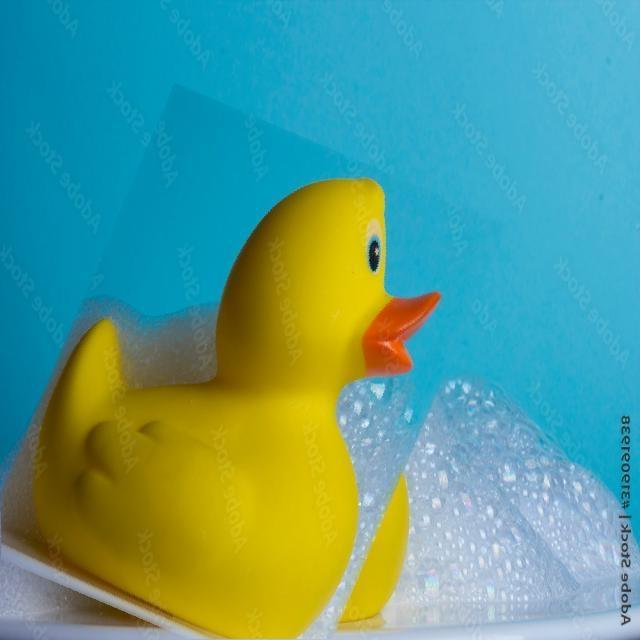rubber-duck: (21, 178, 438, 636), (341, 475, 406, 620)
